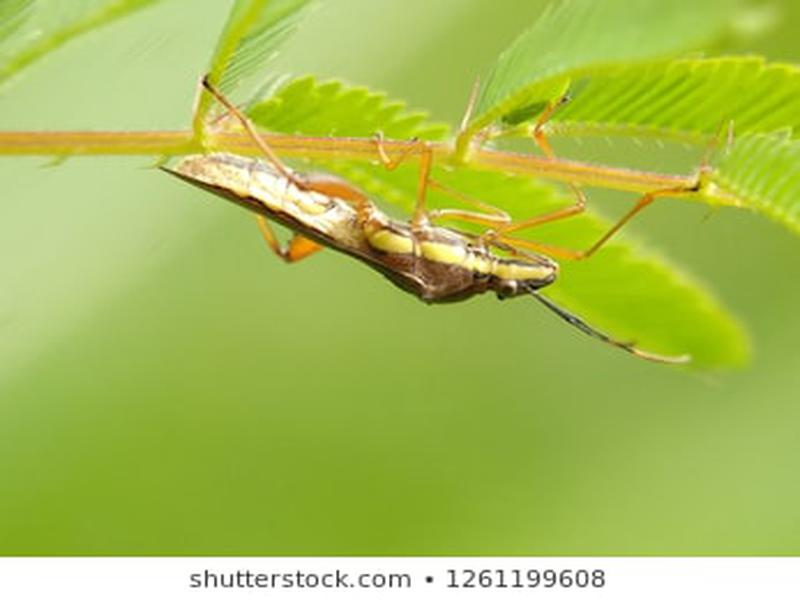Rice_earhead_bug: (146, 124, 611, 344)
